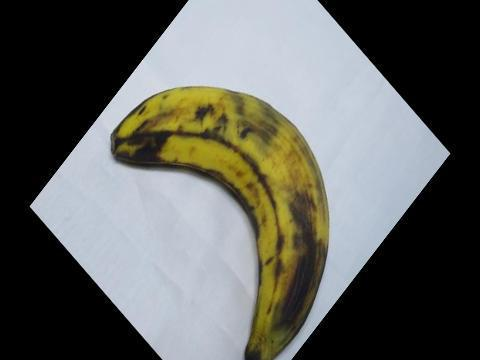overripe: (99, 82, 330, 359)
